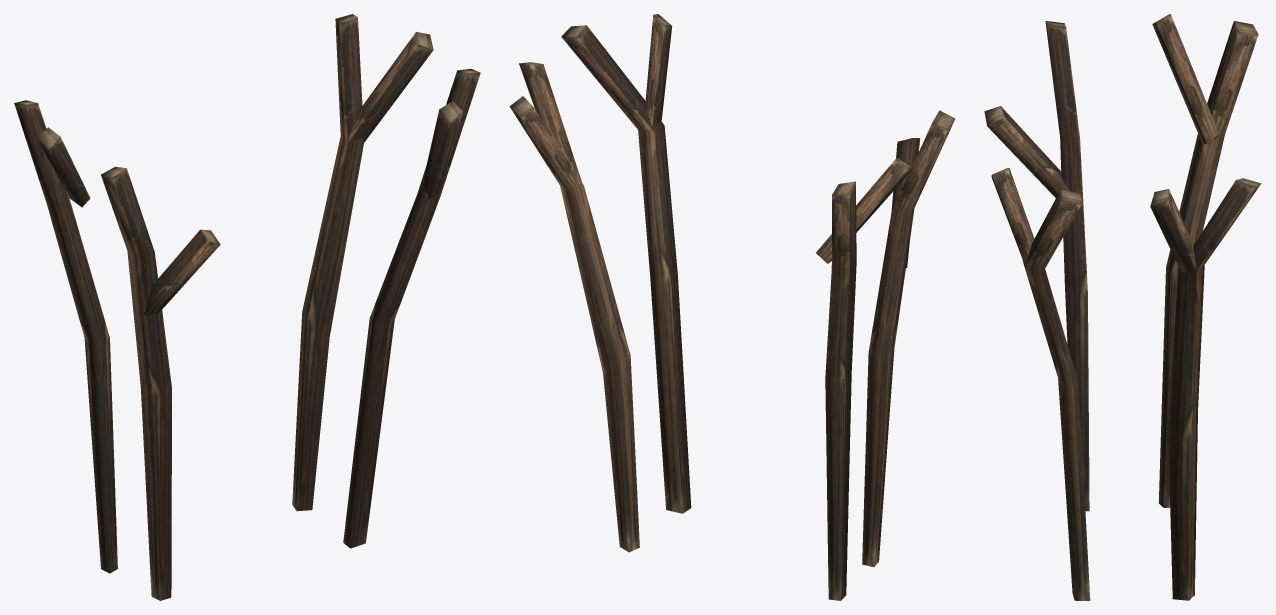
File: ZaWu_All_XiaoGanZi.FBX
3 renders of one model, left to right at view 1: azimuth 30°, elevation 25°; view 2: azimuth 150°, elevation 25°; view 3: azimuth 270°, elevation 25°, orthographic.
Visible parts, largest first — view 1: z; view 2: z; view 3: z.
Part boxes in pixels (bbox=[...]): z: bbox=[14, 14, 480, 600]; z: bbox=[509, 14, 955, 600]; z: bbox=[984, 14, 1261, 600].
Bounding box in the file's own units: 82.82 × 93.19 × 49.95.
